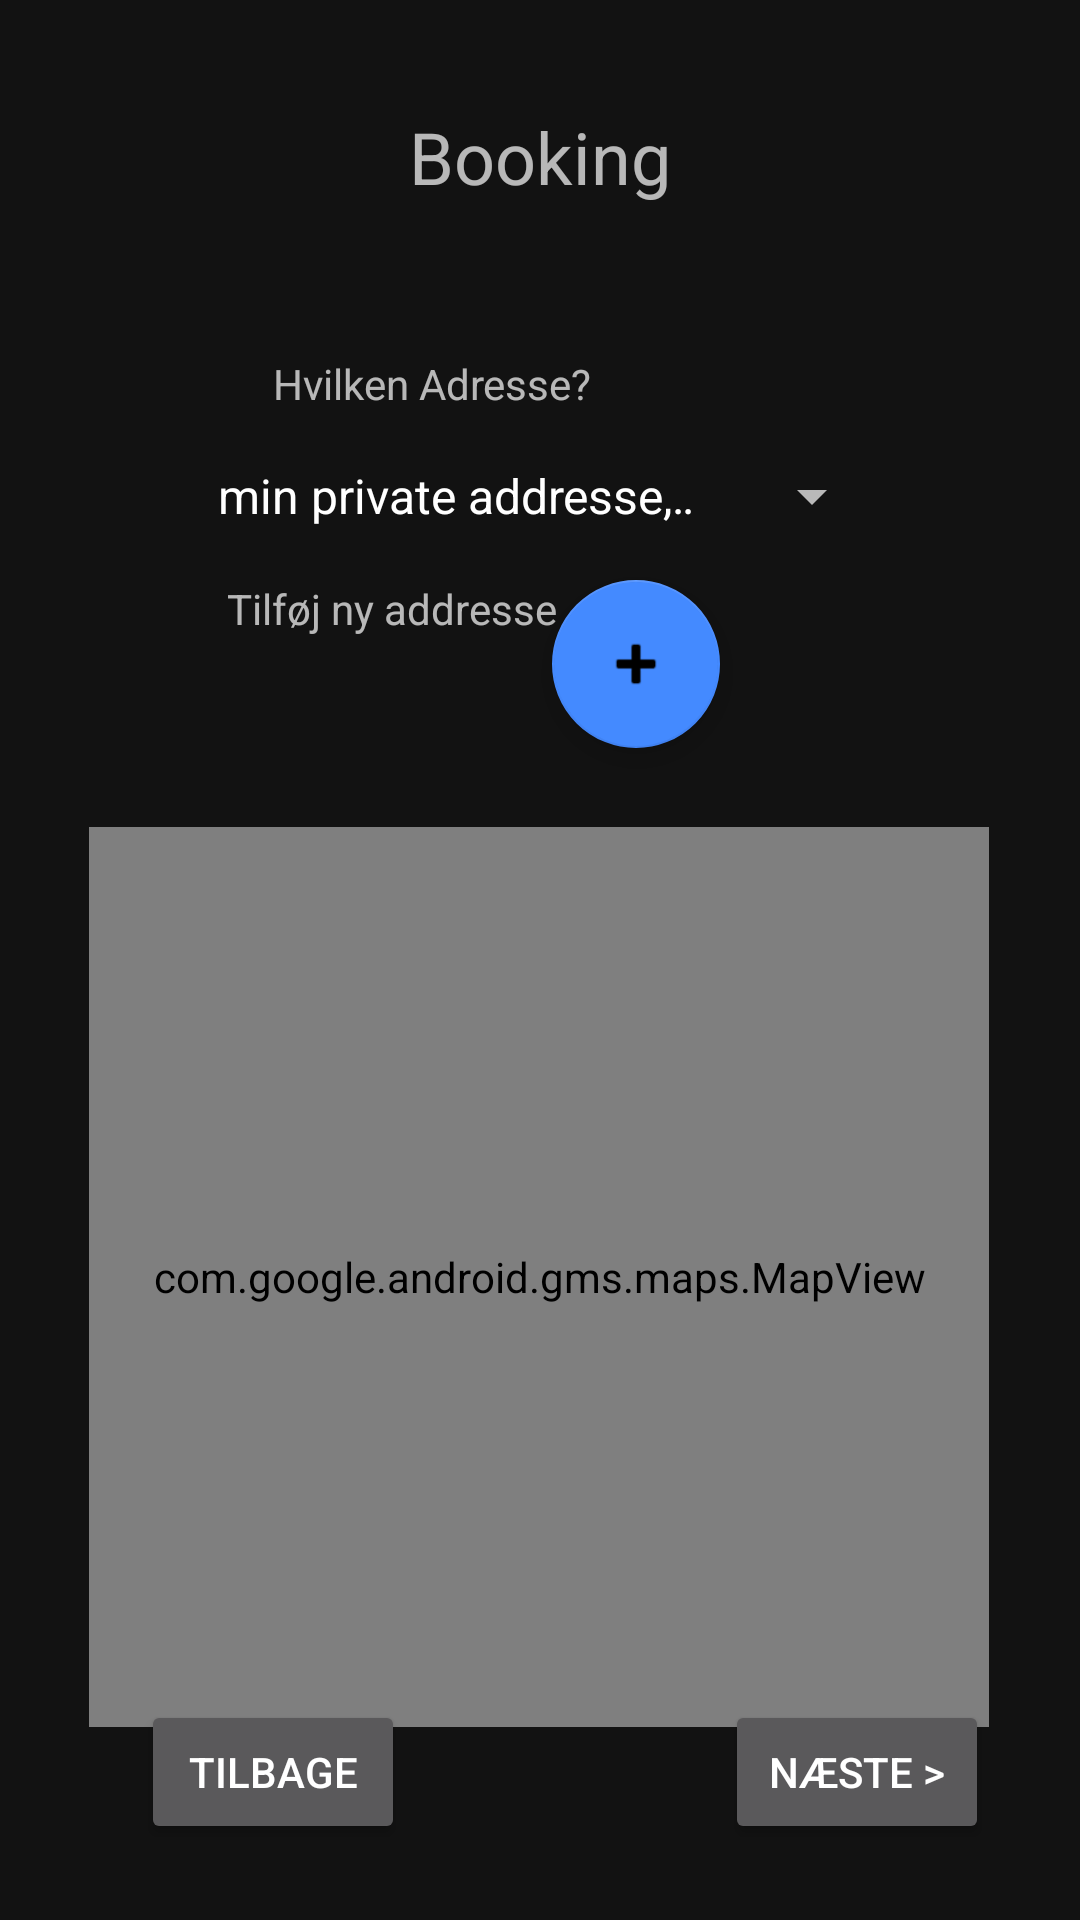

Locate icon controls on the screen. Image size 1080 x 1920, boxes as box(x1, y1, x2, y2).
add: box(552, 580, 720, 748)
